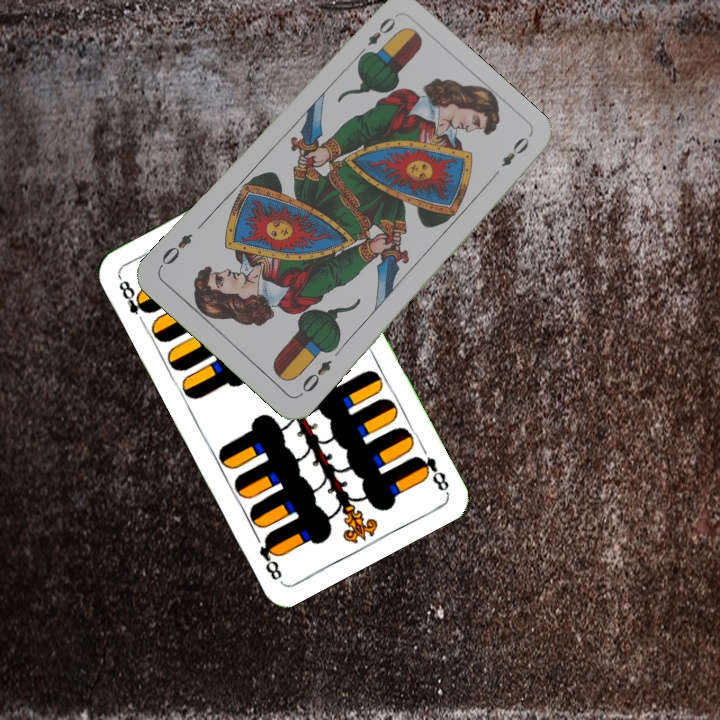E8: (114, 272, 154, 328), (410, 451, 452, 495)
EO: (353, 13, 398, 62), (296, 355, 335, 399)
